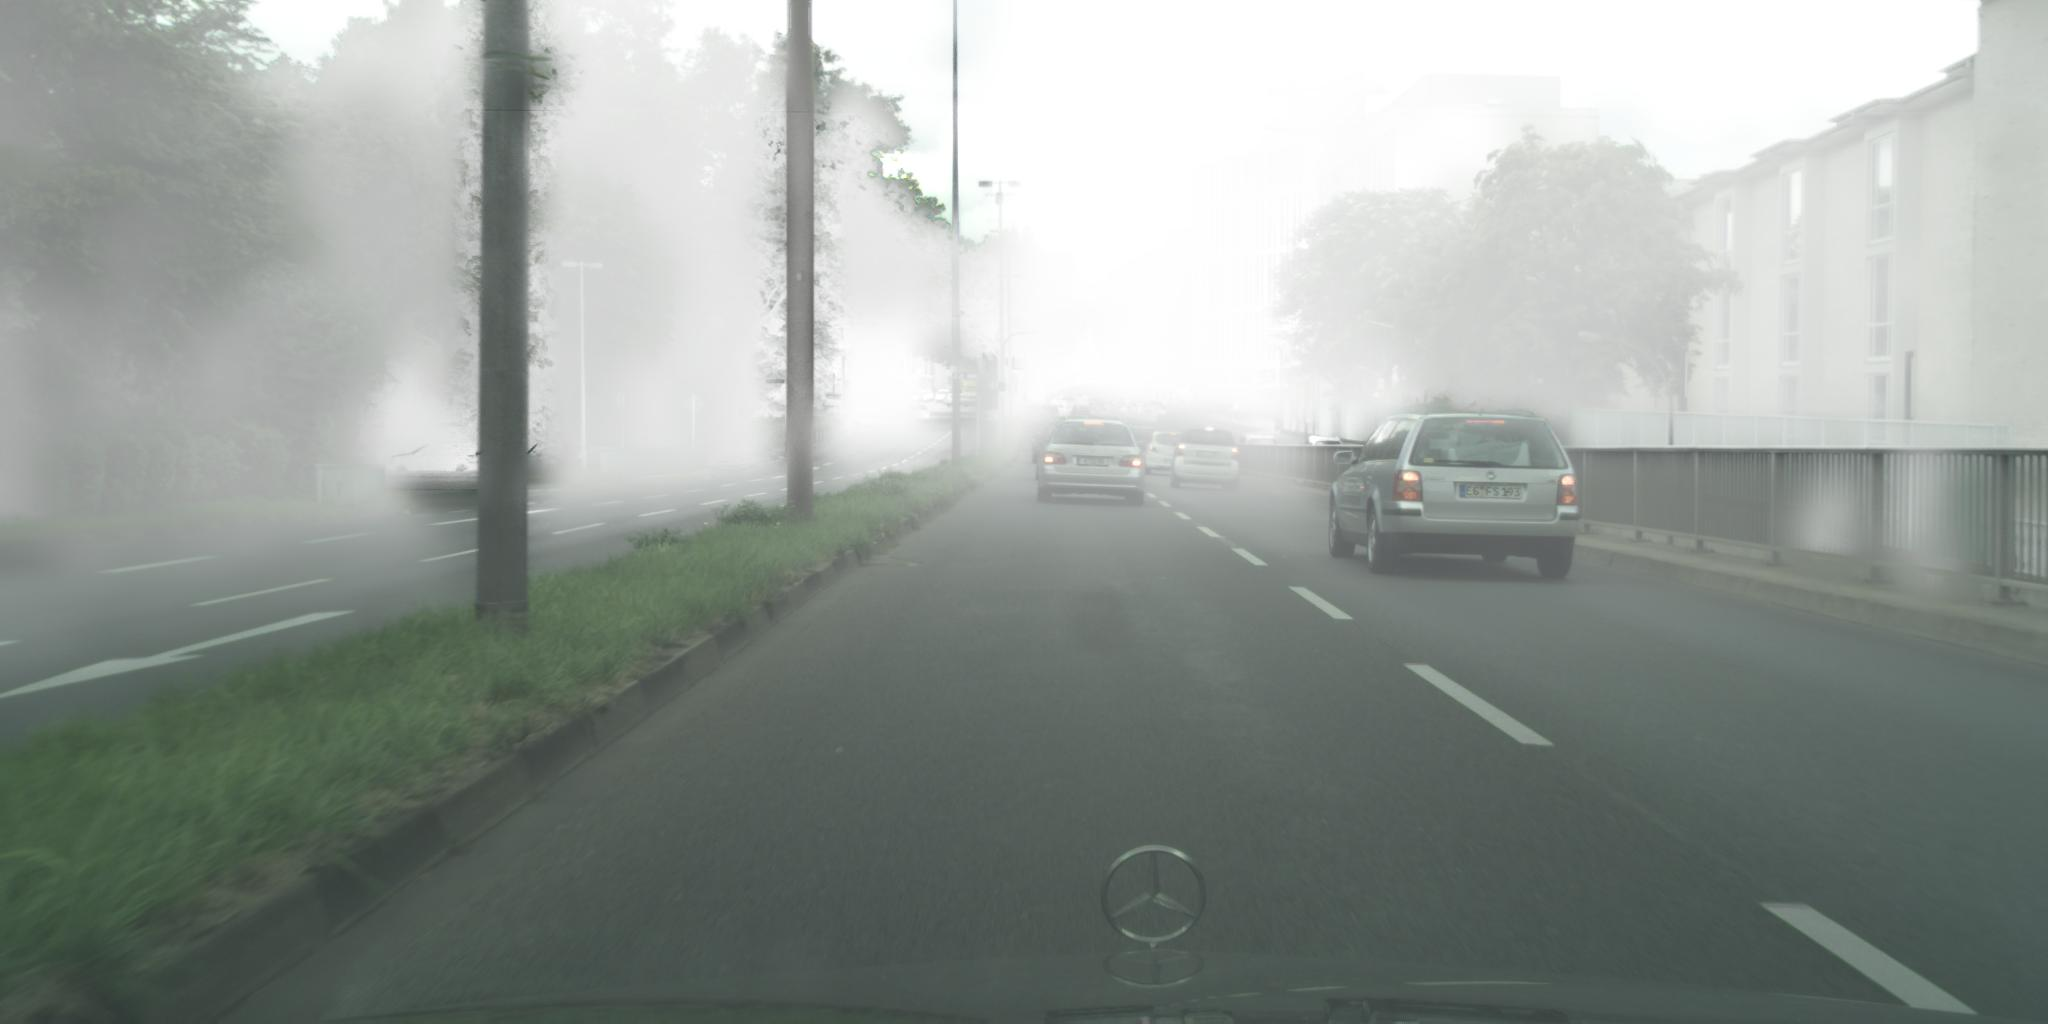car: (1327, 406, 1586, 584), (1034, 418, 1149, 509), (1168, 426, 1242, 492), (381, 441, 490, 475), (1144, 430, 1190, 477), (1031, 421, 1058, 468), (1125, 428, 1162, 462), (1236, 430, 1281, 457), (957, 374, 991, 409), (1298, 435, 1354, 452), (905, 404, 933, 424), (1070, 408, 1092, 424), (1048, 392, 1067, 408)
